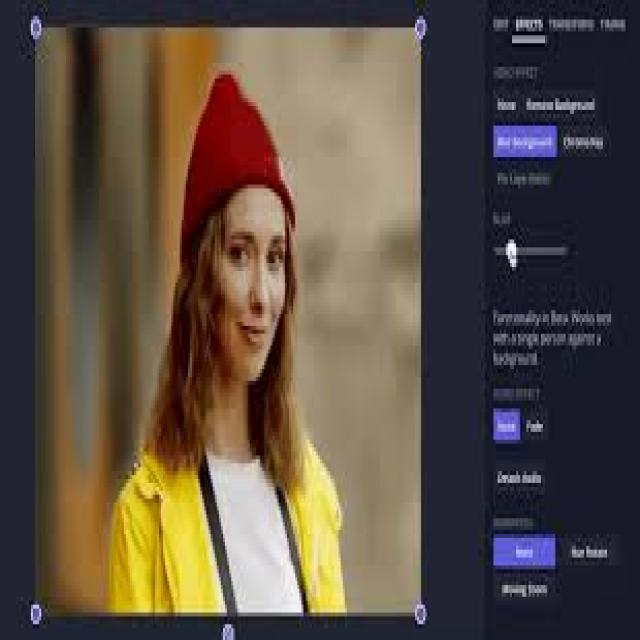Edited images: (95, 55, 367, 614)
